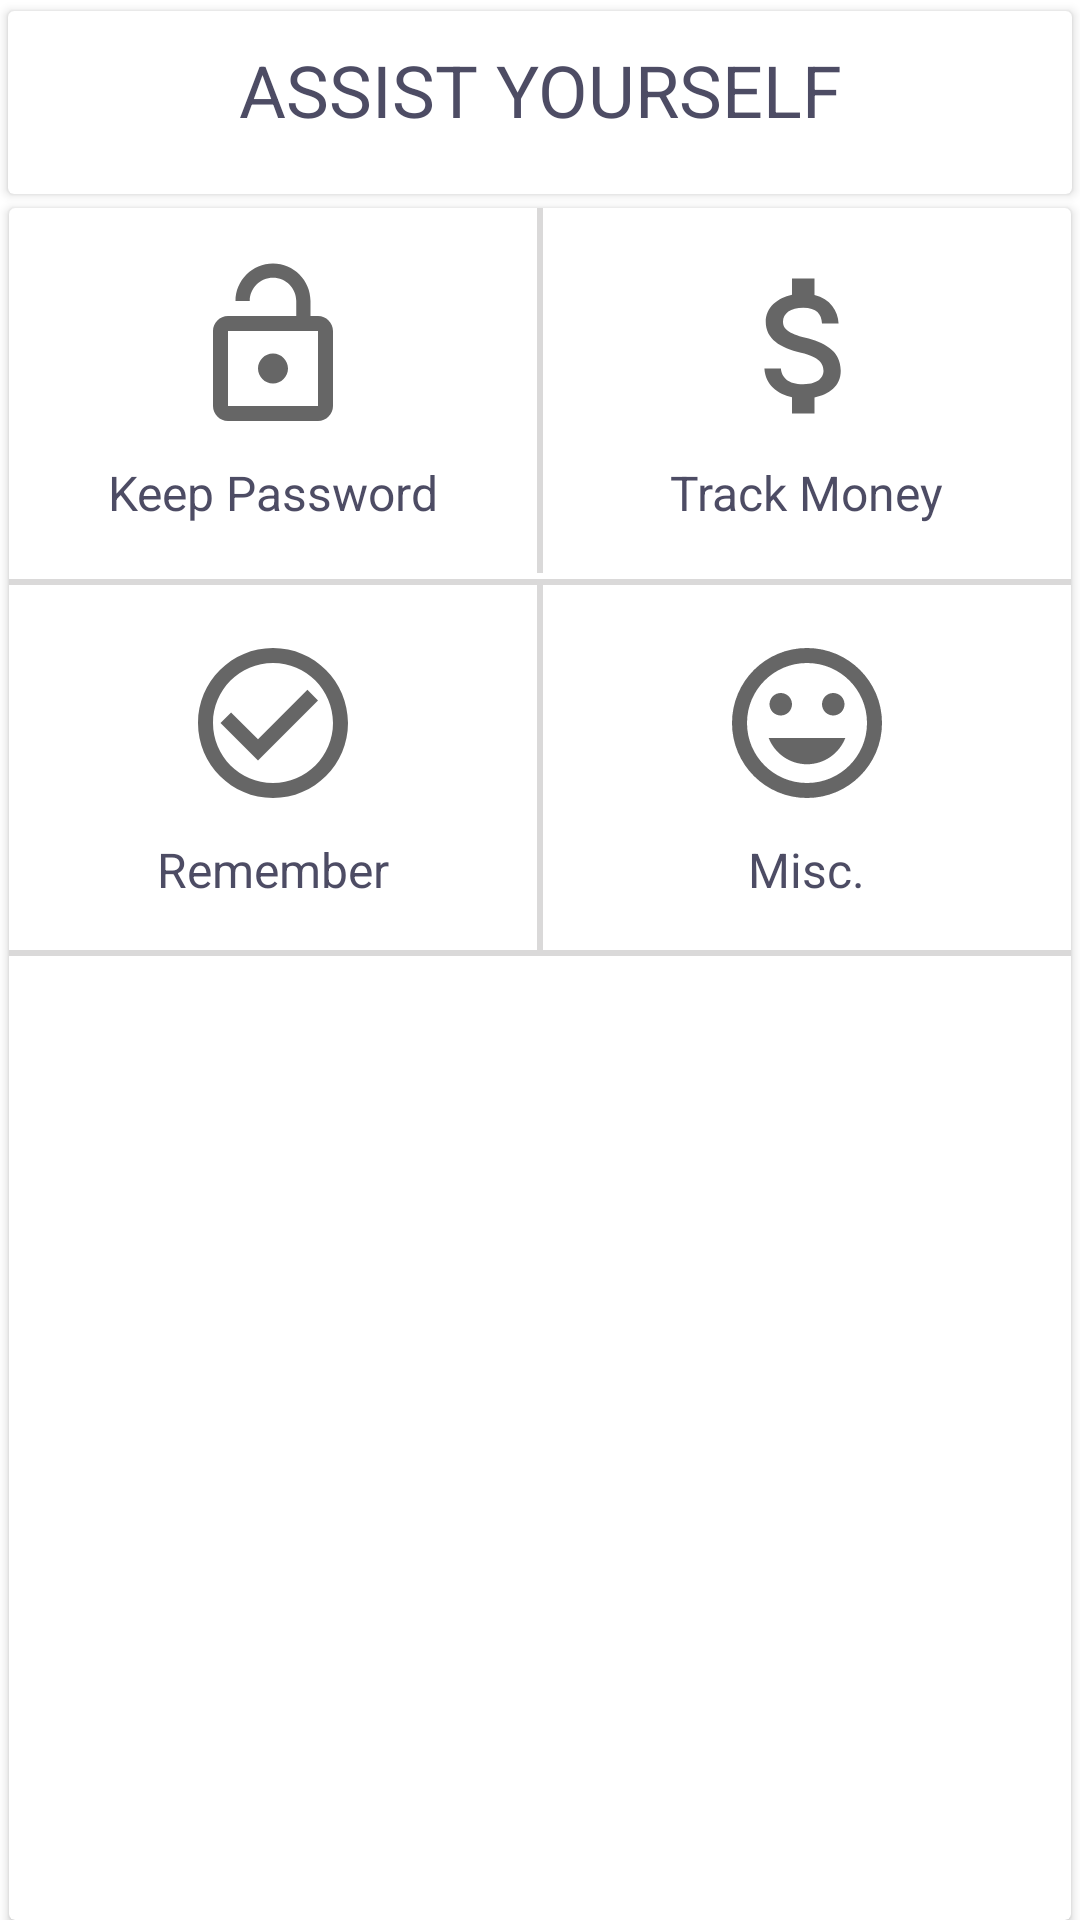

Locate icon controls on the screen. Image size 1080 × 1920, boxes as (x1, y1, x2, y2).
attach money: (764, 278, 841, 414)
check circle: (198, 648, 348, 798)
lock open: (213, 263, 333, 421)
mood: (732, 648, 882, 798)
